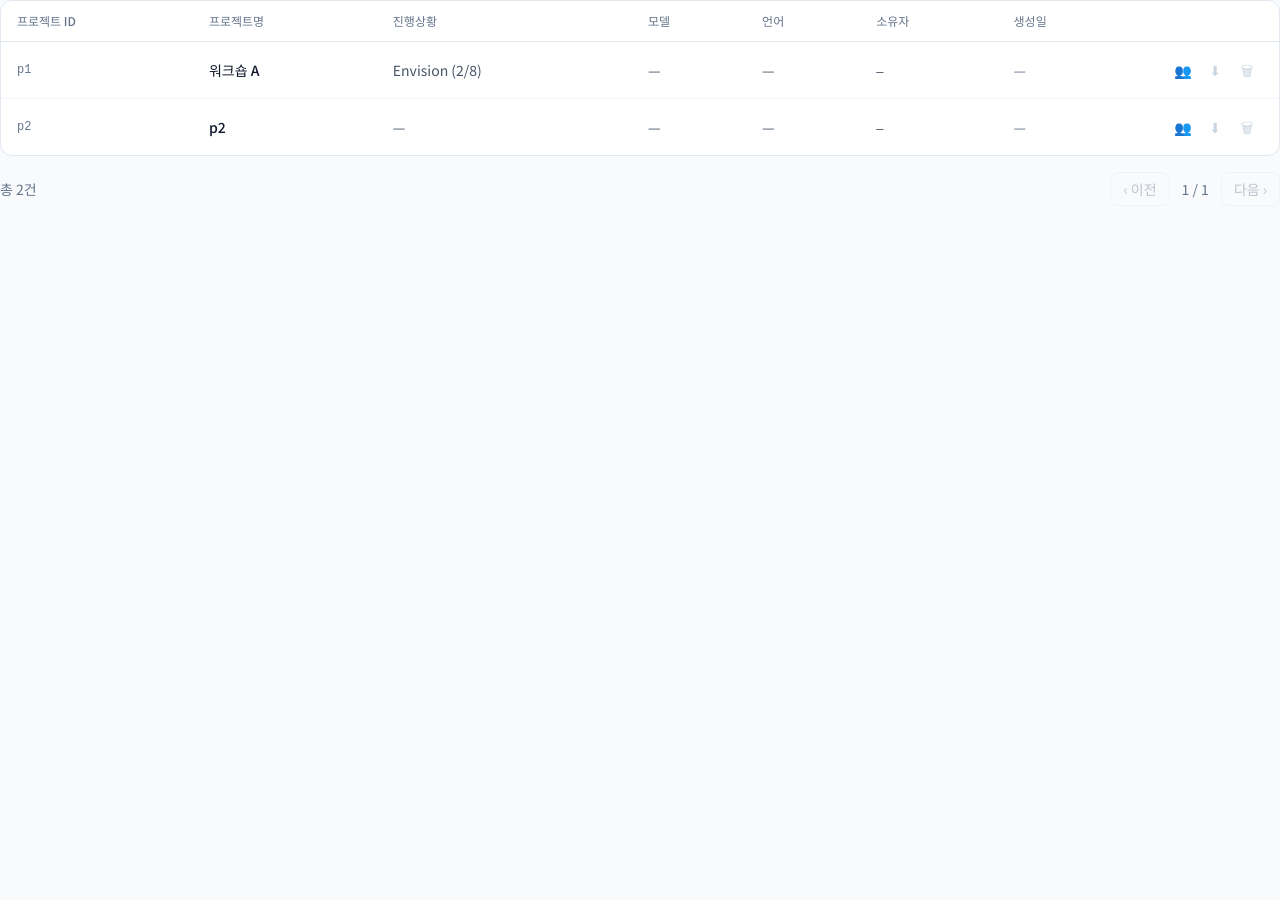
Test: ProjectList delete › shows a delete button per card and opens the confirm dialog with the warning copy
What coordinates should you click on to do the following:
click the button named "프로젝트 삭제"
I would click on:
 (1247, 70)
Its box is [1231,54,1263,86].
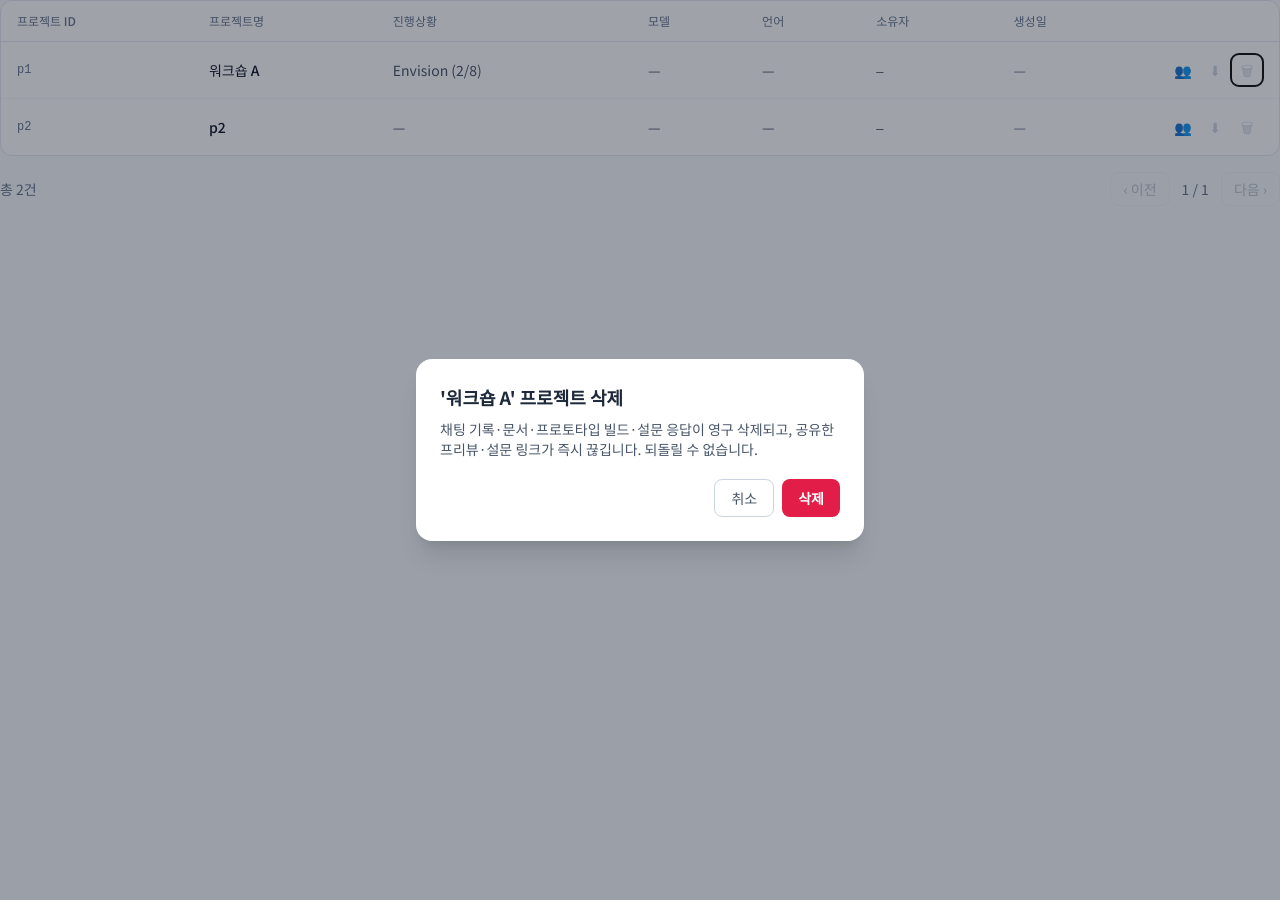
Expected: the dialog shows "'워크숍 A' 프로젝트 삭제", [440,384,623,410]
Expected: the dialog shows "채팅 기록·문서·프로토타입 빌드·설문 응답이 영구 삭제되고, 공유한 프리뷰·설문 링크가 즉시 끊깁니다. 되돌릴 수 없습니다.", [440,419,834,459]
